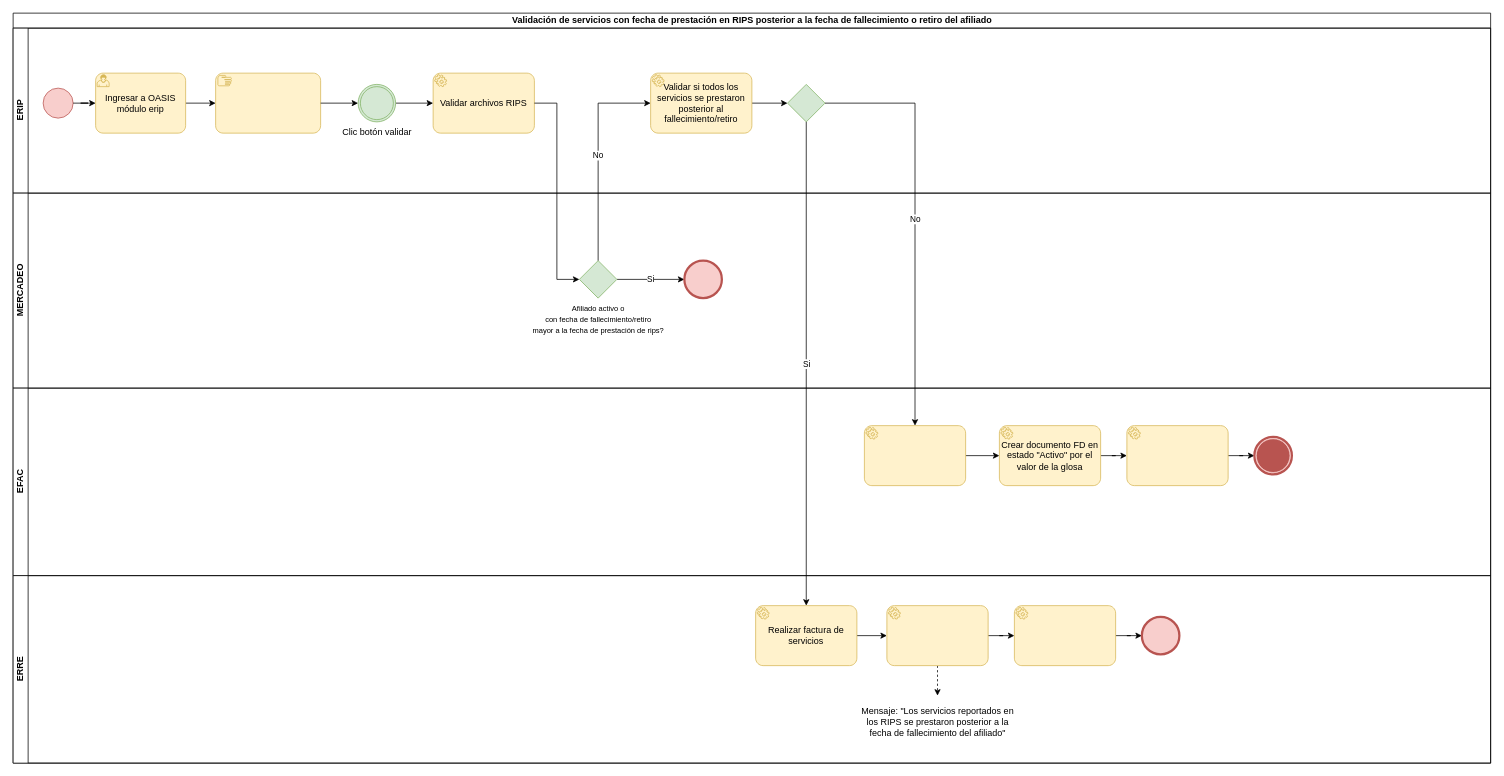
Image size: 1504x776. Some labels were removed from this diagram. Each missing label, with the centre of its shape:
Cargar error del rechazo de la factura: the point at 937,635
Clasificar glosa con código 117: the point at 1177,455
Generar PDF con el informe de errores: the point at 1065,635
Glosar los servicios prestados posterior al fallecimiento/retiro: the point at 915,455
Realizar cargue de archivos rips: the point at 268,102
Todos los servicios se prestaron posterior: the point at 806,103
